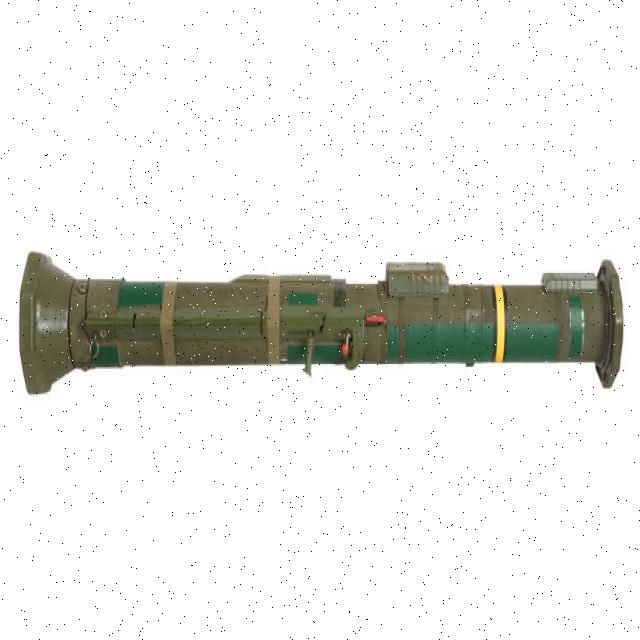bazooka: (15, 243, 630, 405)
